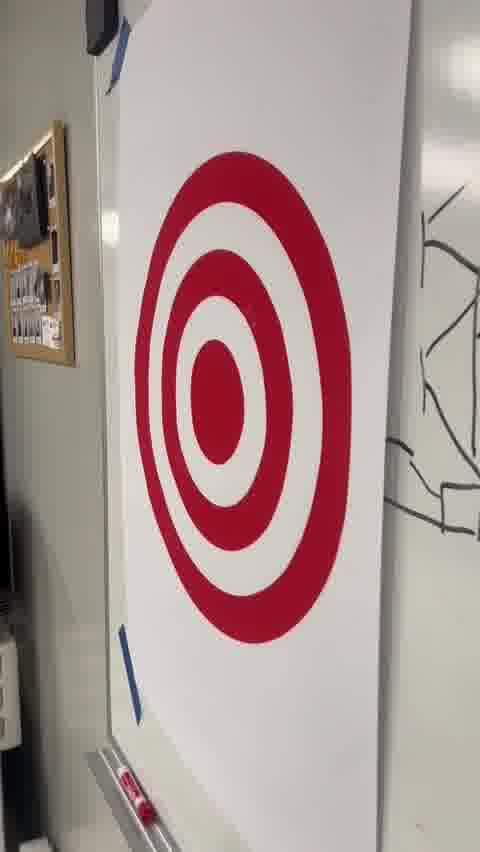target_red: (134, 152, 354, 645)
